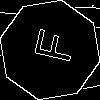F: (25, 25, 76, 65)
